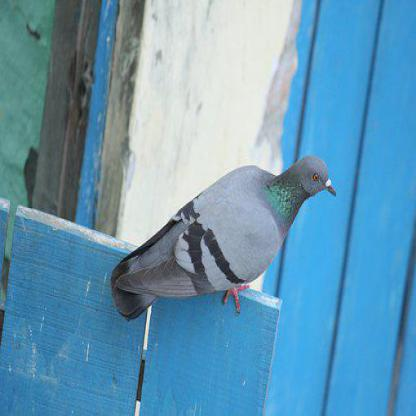Rock Pigeon: (105, 154, 342, 324)
